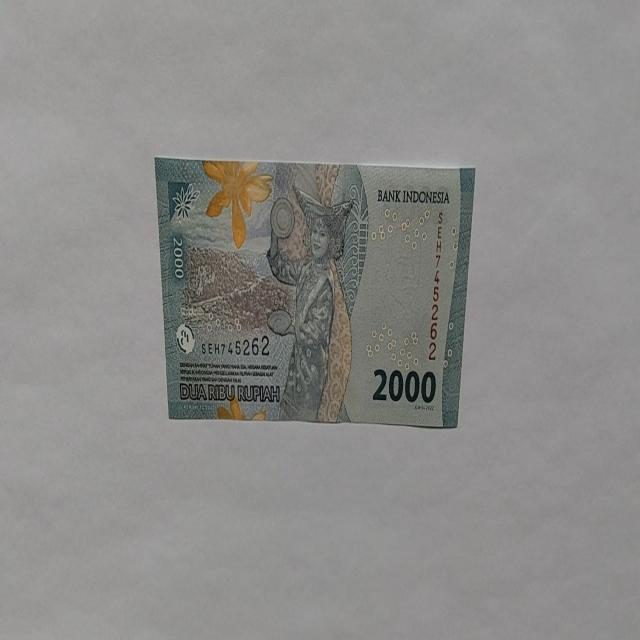dua ribu rupiah: (154, 158, 476, 428), (264, 184, 354, 422), (201, 158, 273, 249)
